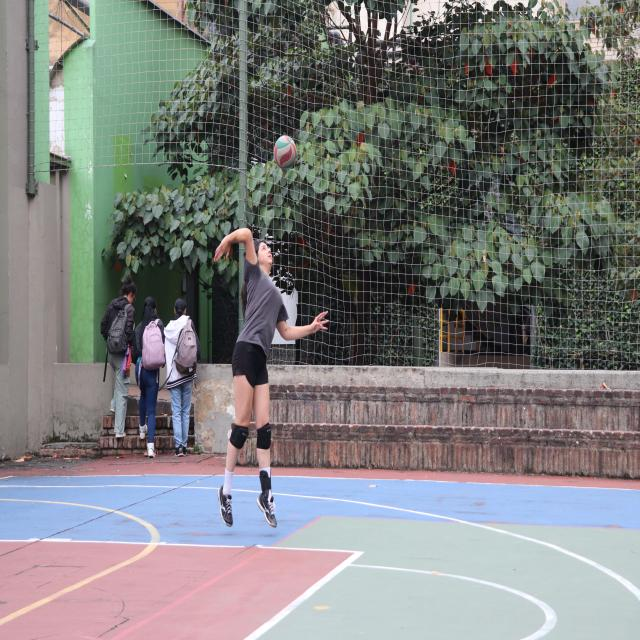volleyball: (274, 134, 296, 170)
